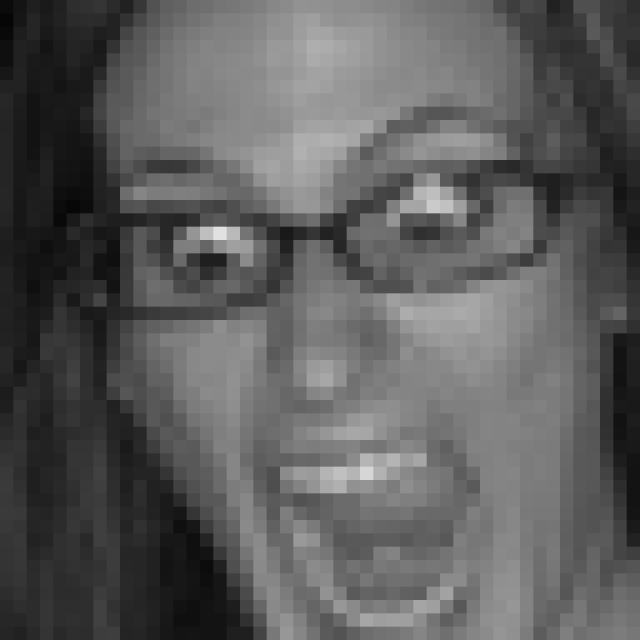angry: (108, 105, 566, 640)
